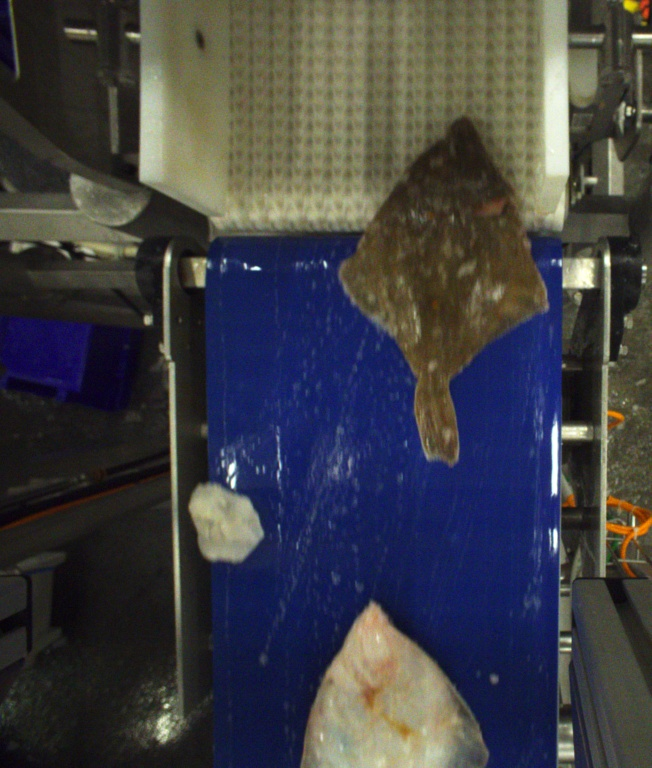PLE: (339, 116, 550, 464)
